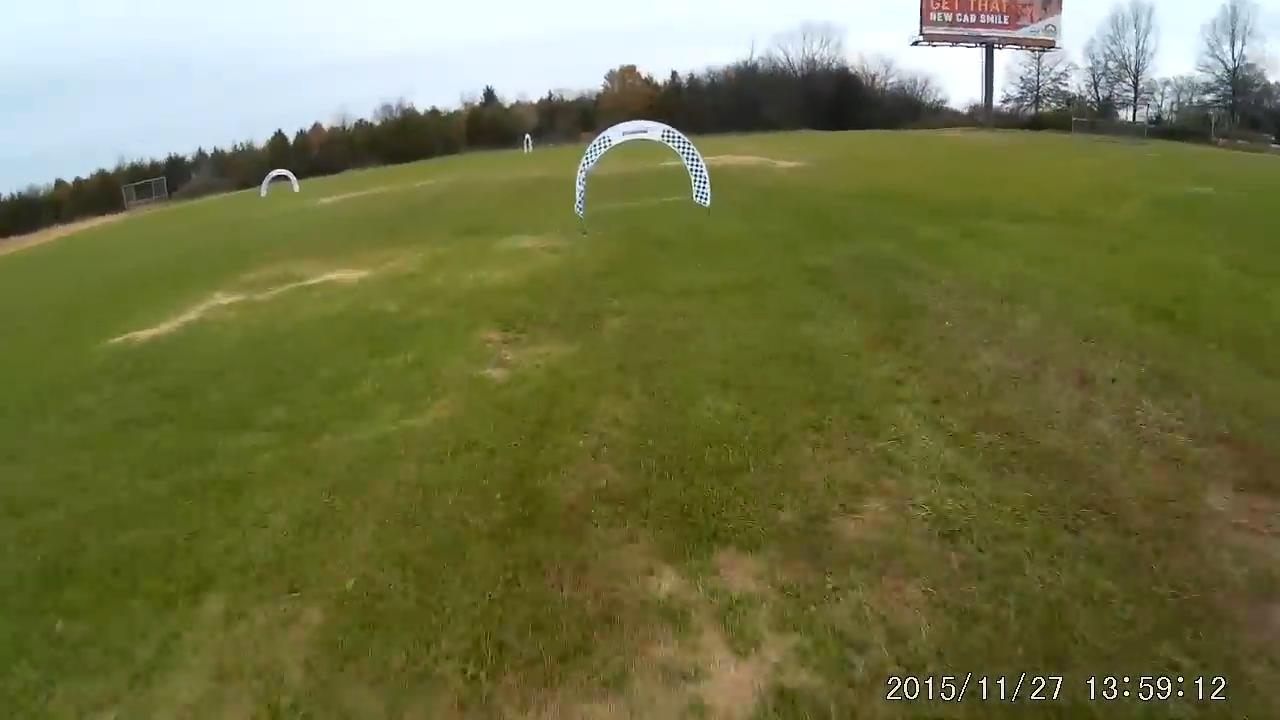gate: (566, 118, 716, 217)
